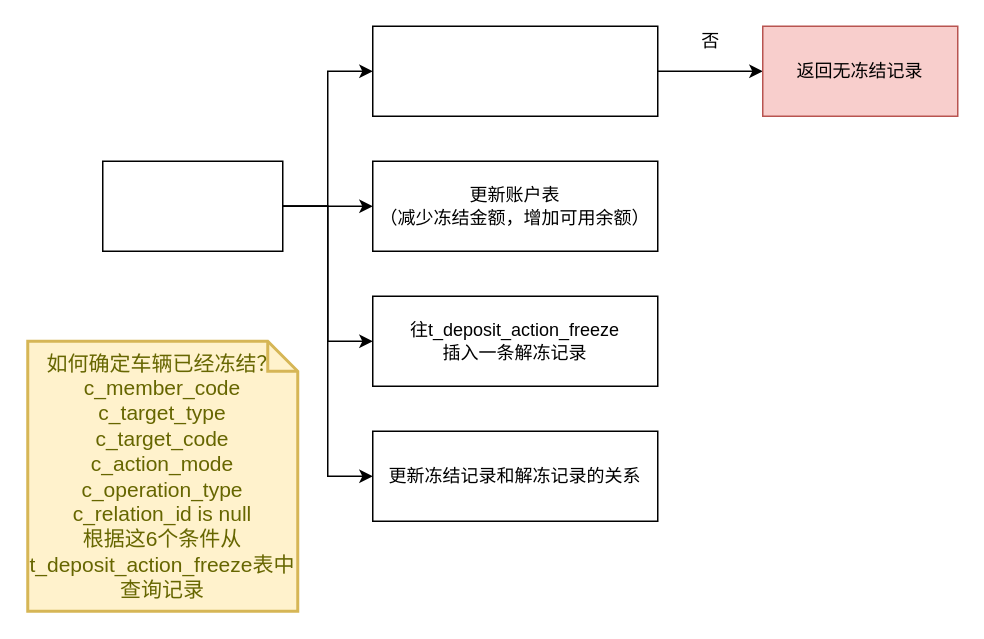
Image size: 984x639. Some labels were removed from this diagram. Each missing label, with the centre of its shape:
"单车解冻" goes at point 192,205.
"查询是否有冻结记录" goes at point 514,70.
